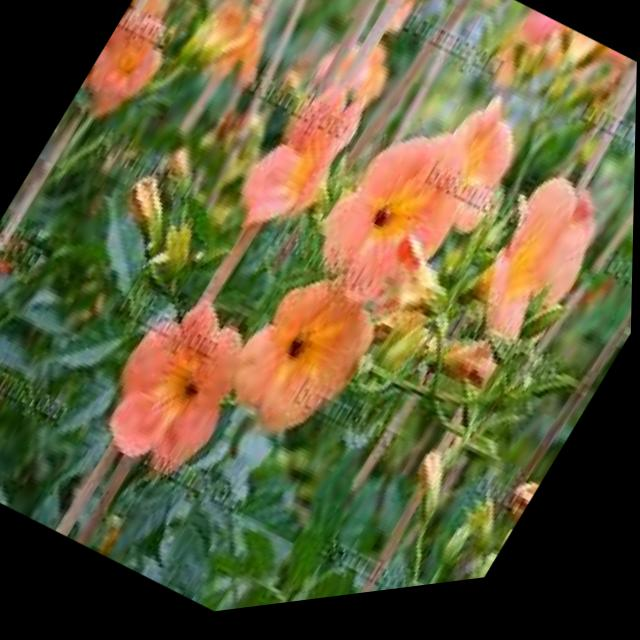Flower: (60, 266, 285, 516), (295, 108, 502, 351), (215, 255, 404, 478), (224, 51, 403, 268), (446, 181, 620, 393), (387, 86, 555, 285), (75, 3, 187, 138)
